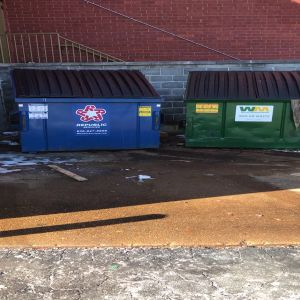Dumpster: (6, 67, 165, 153), (184, 68, 300, 153)
